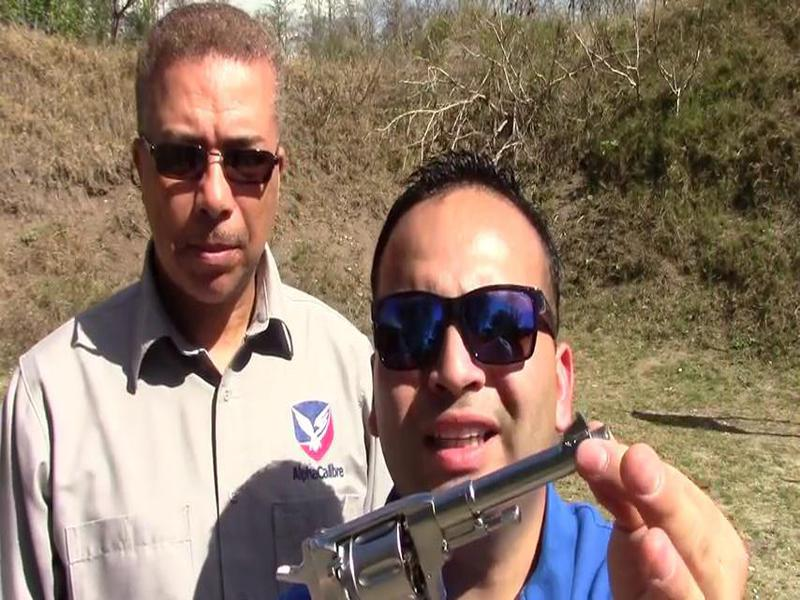Revolver: (271, 385, 610, 600)
